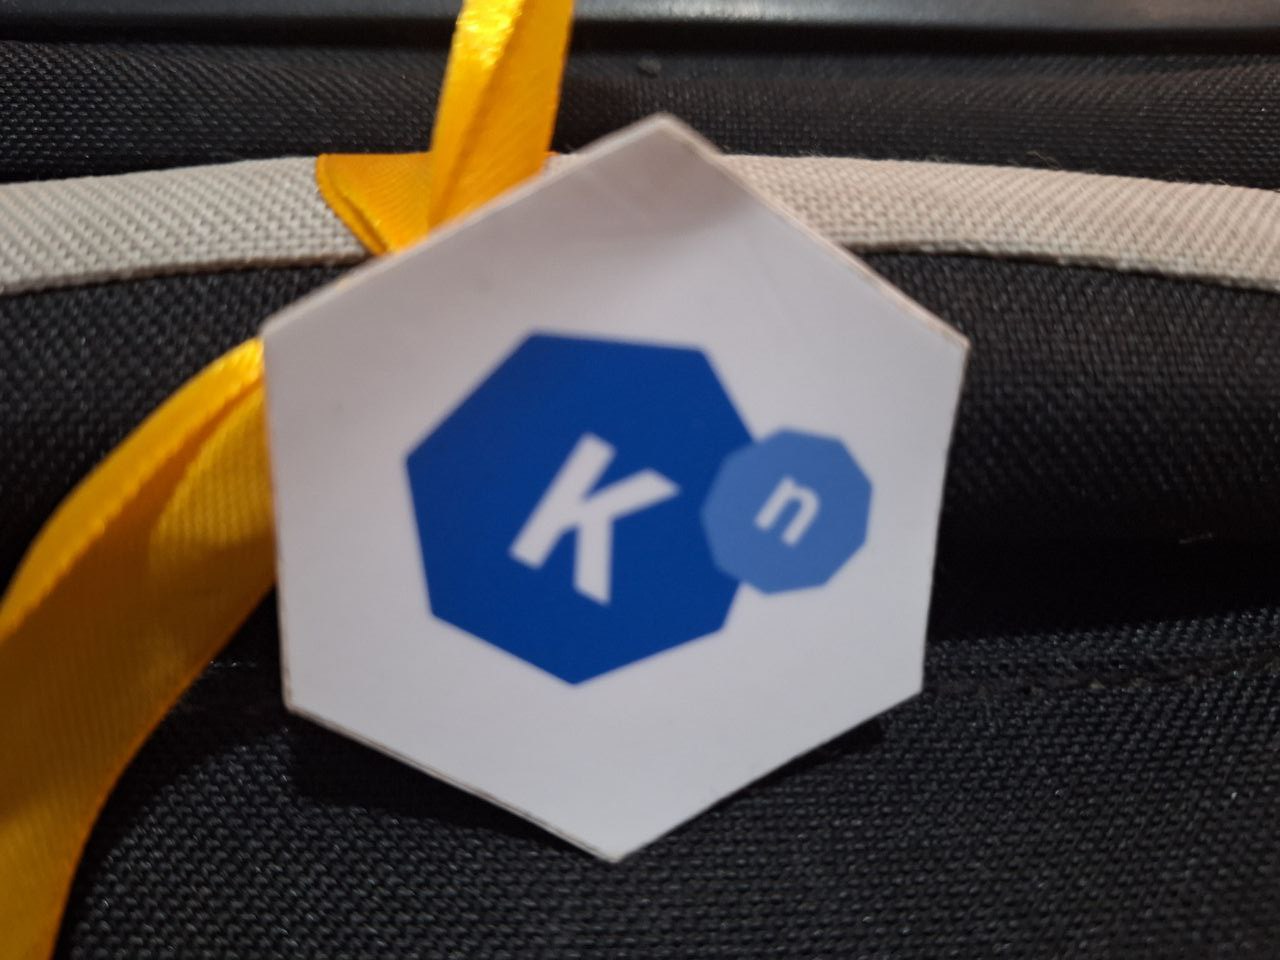knative: (402, 323, 873, 690)
